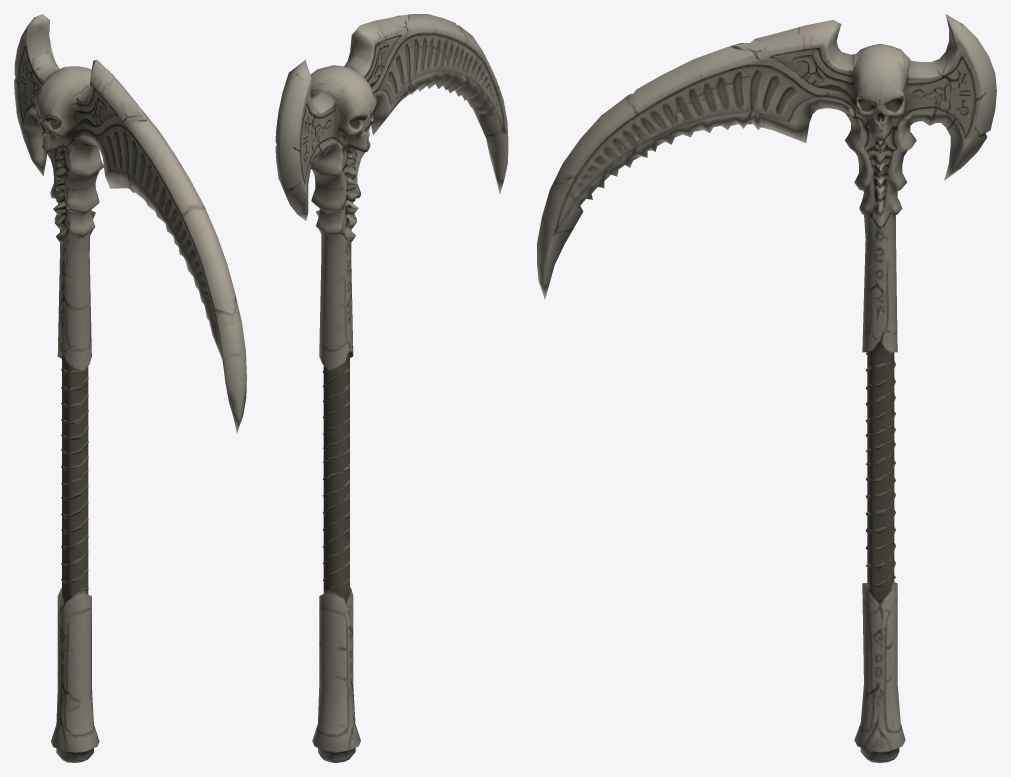
Rendered from gear_scythe.glb.
3 views of the same model, side by side, from view 1: azimuth 30°, elevation 25°; view 2: azimuth 150°, elevation 25°; view 3: azimuth 270°, elevation 25° (orthographic). The views are drawn at different scales.
Parts seen in each view (by area): view 1: tripo_node_d165069a-129c-4b9a-a3f0-9ee7383a61fb; view 2: tripo_node_d165069a-129c-4b9a-a3f0-9ee7383a61fb; view 3: tripo_node_d165069a-129c-4b9a-a3f0-9ee7383a61fb.
Boxes of the visible parts, box(x1,y1,x2,y2) form: tripo_node_d165069a-129c-4b9a-a3f0-9ee7383a61fb: box(14, 14, 246, 762); tripo_node_d165069a-129c-4b9a-a3f0-9ee7383a61fb: box(275, 14, 508, 762); tripo_node_d165069a-129c-4b9a-a3f0-9ee7383a61fb: box(537, 14, 996, 762).
Size of the model in its own units: 0.2023 by 1.95 by 1.1.
1 material, 1 textured.
